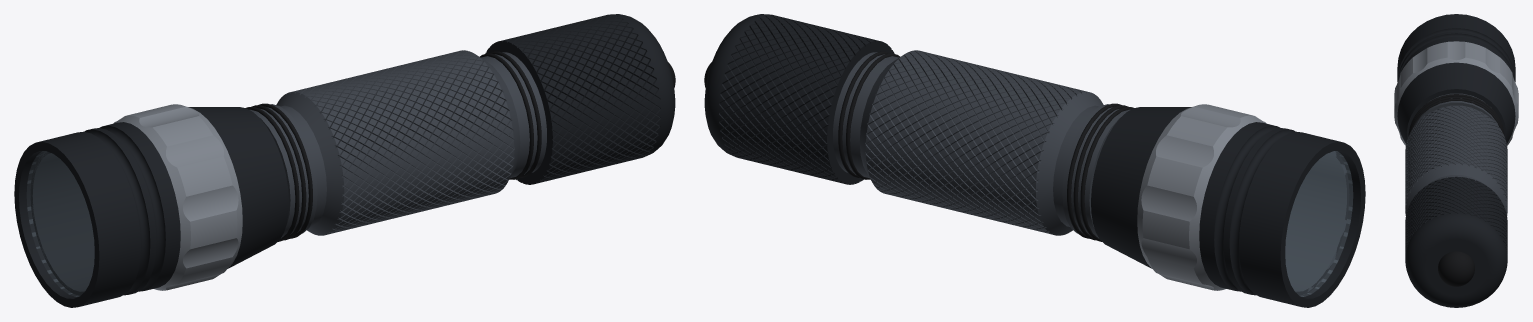
Rendered from Flashlight Prototype.glb.
3 renders of one model, left to right at view 1: azimuth 30°, elevation 25°; view 2: azimuth 150°, elevation 25°; view 3: azimuth 270°, elevation 25°, orthographic. The views are drawn at different scales.
Visible parts, largest first — view 1: Flash Light Prototype; view 2: Flash Light Prototype; view 3: Flash Light Prototype.
Part boxes in pixels (x1,y1,x2,y2): Flash Light Prototype: (14, 14, 675, 307); Flash Light Prototype: (704, 14, 1365, 307); Flash Light Prototype: (1394, 14, 1518, 307).
Size of the model in its own units: 15.92 by 3.98 by 4.01.
